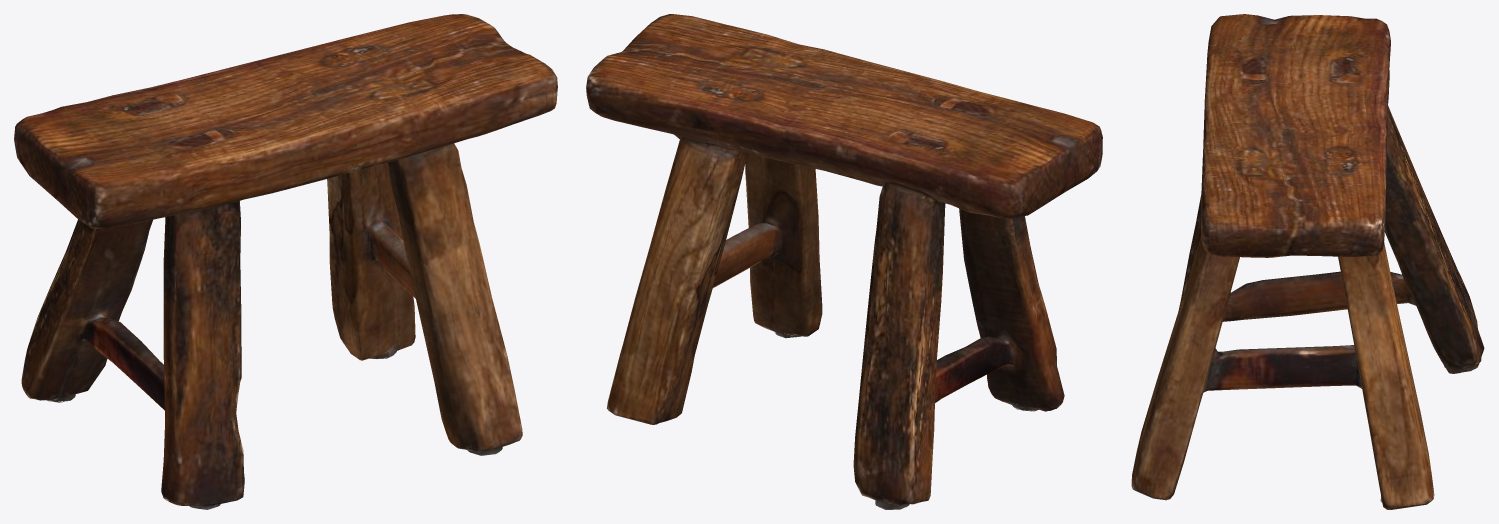
The model's file is ph_wooden_stool_02.glb.
The picture shows the model from 3 angles, left to right: view 1: azimuth 30°, elevation 25°; view 2: azimuth 150°, elevation 25°; view 3: azimuth 270°, elevation 25°; orthographic projection. The views are drawn at different scales.
Parts seen in each view (by area): view 1: wooden_stool_02; view 2: wooden_stool_02; view 3: wooden_stool_02.
Boxes of the visible parts, box(x1,y1,x2,y2) form: wooden_stool_02: box(14, 14, 557, 509); wooden_stool_02: box(586, 14, 1102, 509); wooden_stool_02: box(1131, 14, 1484, 509).
Size of the model in its own units: 0.2651 by 0.1821 by 0.1832.
1 material, 1 textured.
